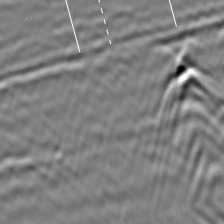Utility: (154, 50, 224, 154)
